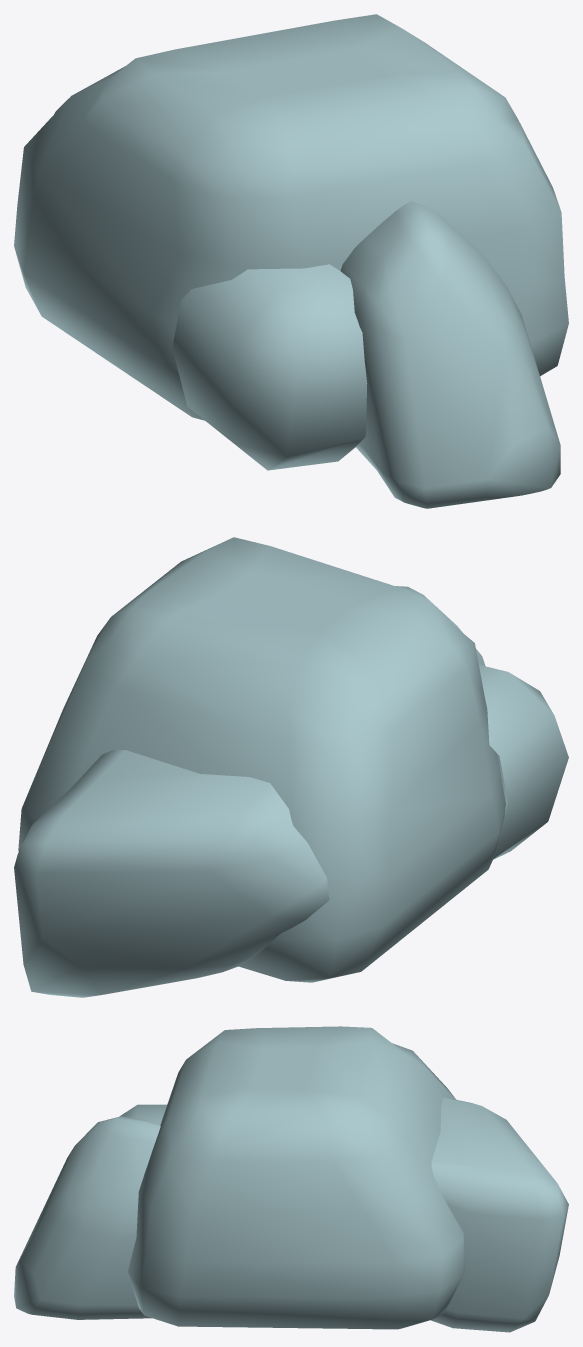
The model's file is TheKidRocks.fbx.
3 renders of one model, top to bottom at view 1: azimuth 30°, elevation 25°; view 2: azimuth 150°, elevation 25°; view 3: azimuth 270°, elevation 25°, orthographic. The views are drawn at different scales.
Visible parts, largest first — view 1: RockPlatform, Rock1, Rock3; view 2: RockPlatform, Rock2, Rock3; view 3: RockPlatform, Rock2, Rock1, Rock3.
Boxes of the visible parts, x1=… form: RockPlatform: x1=14, y1=14, x2=568, y2=420; Rock1: x1=340, y1=201, x2=560, y2=508; Rock3: x1=172, y1=264, x2=367, y2=470; RockPlatform: x1=18, y1=537, x2=505, y2=982; Rock2: x1=14, y1=749, x2=329, y2=997; Rock3: x1=479, y1=665, x2=568, y2=859; RockPlatform: x1=128, y1=1026, x2=464, y2=1329; Rock2: x1=430, y1=1097, x2=568, y2=1332; Rock1: x1=14, y1=1116, x2=160, y2=1319; Rock3: x1=119, y1=1104, x2=166, y2=1125.
Size of the model in its own units: 57.06 by 97.96 by 45.38.
